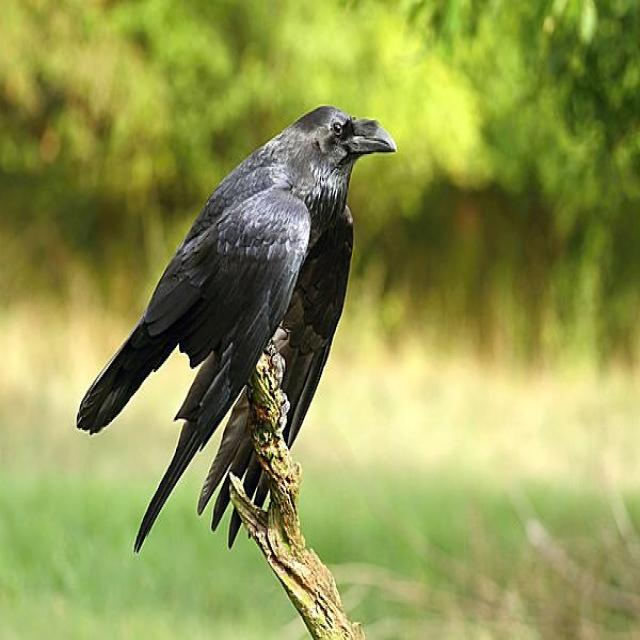crow: (72, 87, 422, 580)
